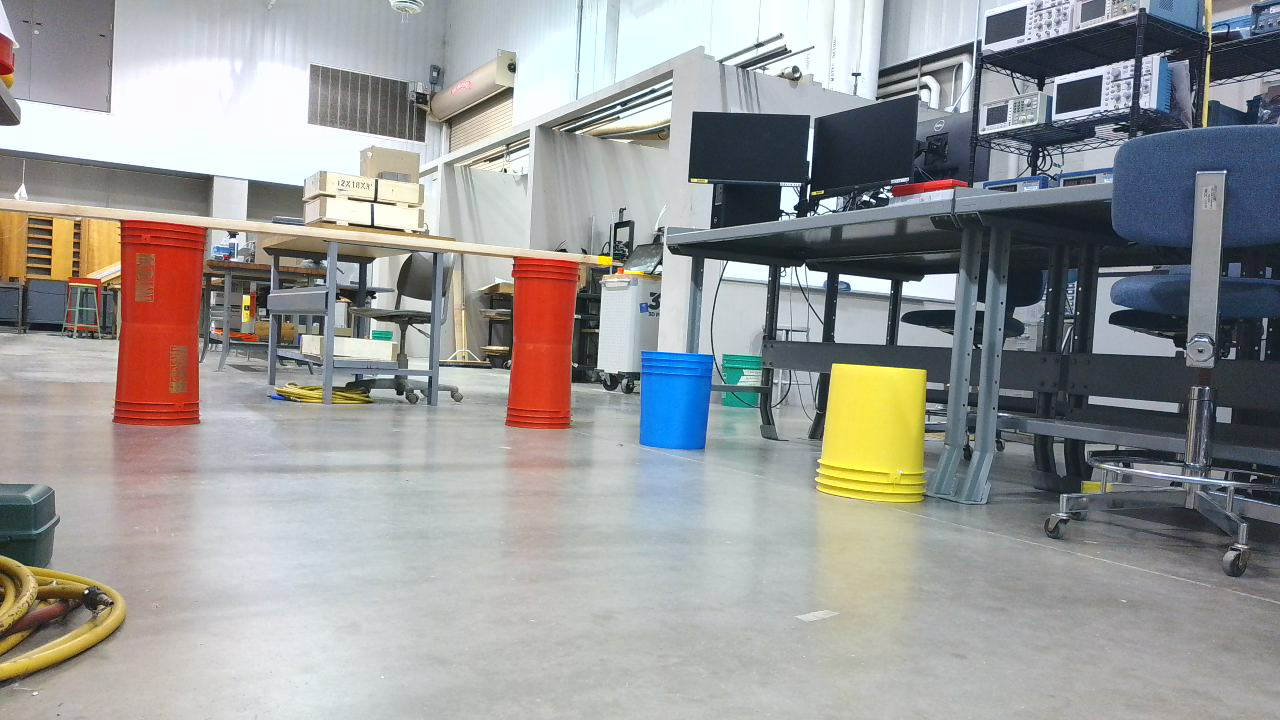blue_bucket: (638, 353, 723, 460)
red_bucket_arch: (113, 221, 588, 440)
yellow_bucket: (816, 363, 939, 511)
